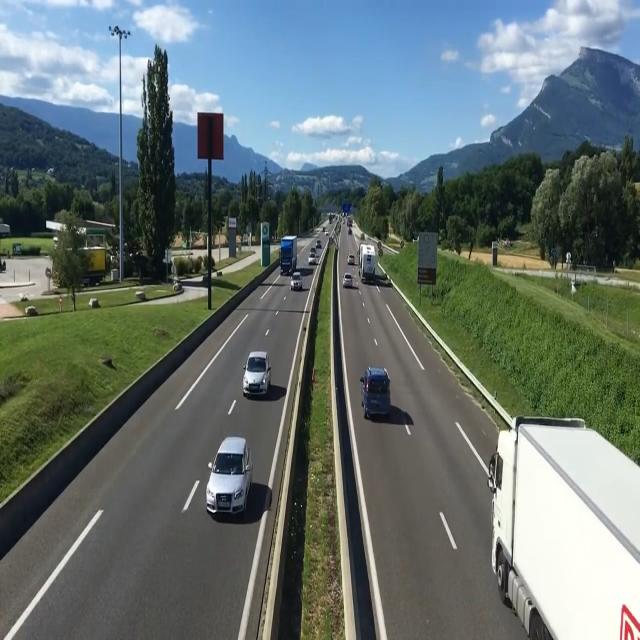car: (206, 430, 254, 522), (361, 362, 394, 427), (243, 349, 275, 401), (290, 271, 303, 294), (343, 272, 353, 292)
truck: (496, 407, 613, 637), (359, 238, 382, 290), (278, 232, 298, 278)
